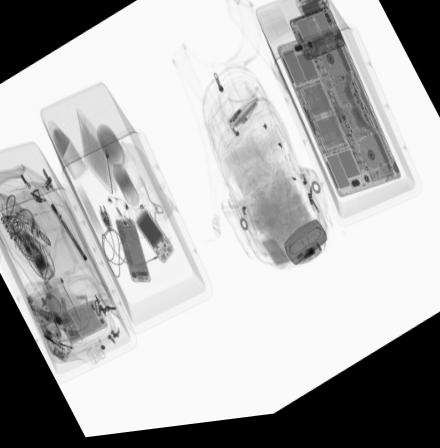Powerbank: (131, 208, 175, 271)
